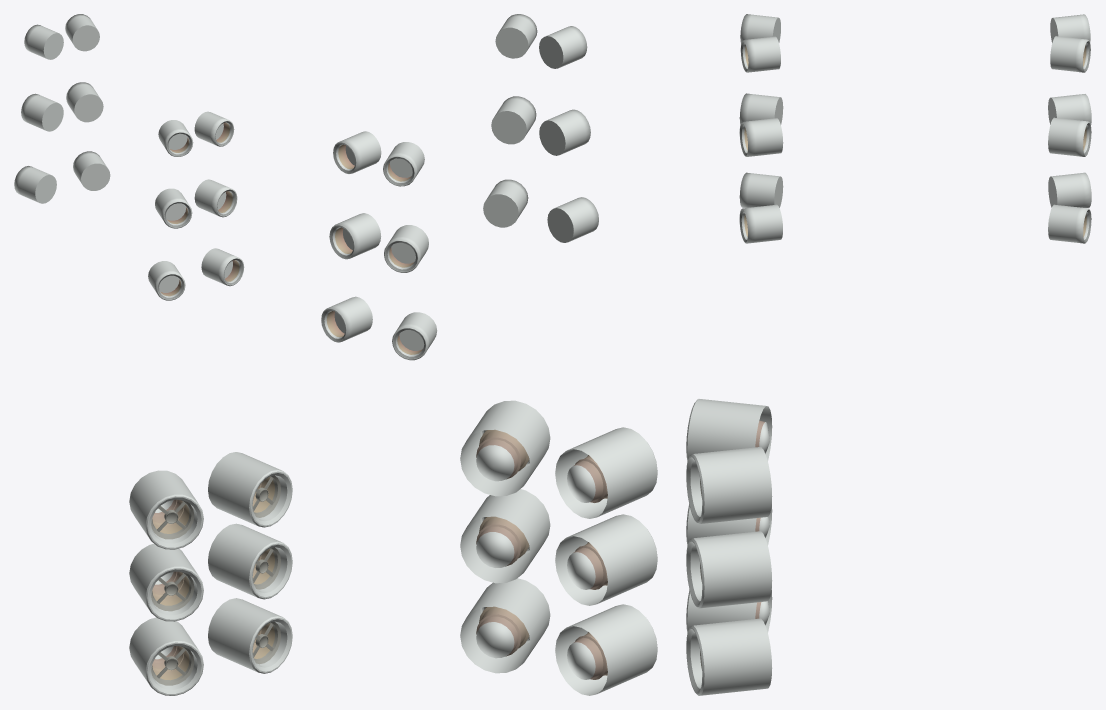
3 views of the same model, side by side, from view 1: azimuth 30°, elevation 25°; view 2: azimuth 150°, elevation 25°; view 3: azimuth 270°, elevation 25° (orthographic). The views are drawn at different scales.
Visible parts, largest first — view 1: G:\FFXIV-MapTools\exports\x6t1\bg\ex5\01_xkt_x6\twn\x6t1\bgp (×5); view 2: G:\FFXIV-MapTools\exports\x6t1\bg\ex5\01_xkt_x6\twn\x6t1\bgp (×5); view 3: G:\FFXIV-MapTools\exports\x6t1\bg\ex5\01_xkt_x6\twn\x6t1\bgp (×3).
Part boxes in pixels (x1,y1,x2,y2): G:\FFXIV-MapTools\exports\x6t1\bg\ex5\01_xkt_x6\twn\x6t1\bgp (×5): (14,14,292,695); G:\FFXIV-MapTools\exports\x6t1\bg\ex5\01_xkt_x6\twn\x6t1\bgp (×5): (321,14,657,695); G:\FFXIV-MapTools\exports\x6t1\bg\ex5\01_xkt_x6\twn\x6t1\bgp (×3): (686,14,1091,695).
Size of the model in its own units: 116 by 408 by 236.
